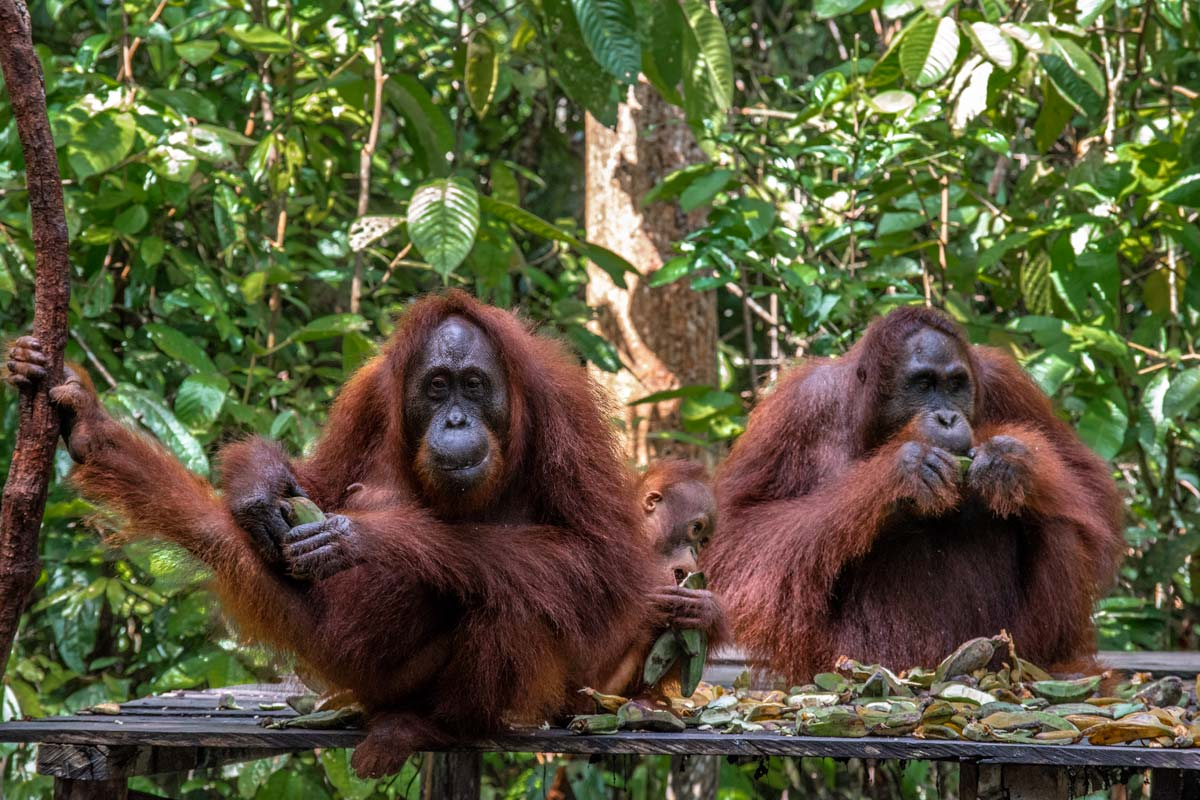Orangutan: (238, 290, 648, 712), (740, 322, 1123, 675), (625, 468, 736, 629)
